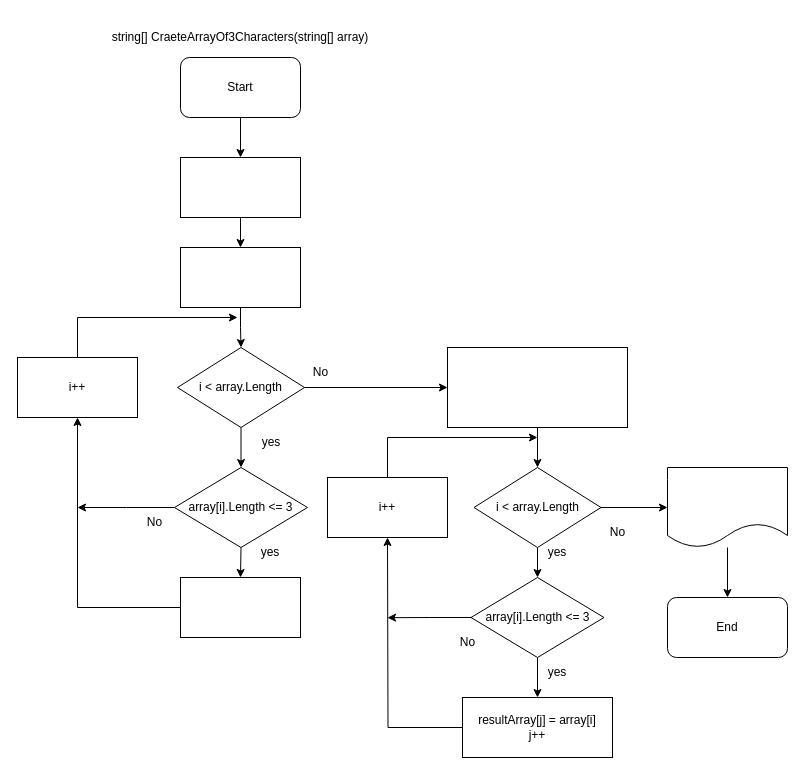
Some shapes in this 805 by 775 pixel diagram are drawn without their labels. Each missing label, with the box of its shape:
i = 0: (180, 246, 300, 308)
resultArray: (666, 466, 788, 548)
resultArray[sizeResultArray] i = 0 j = 0: (446, 346, 628, 428)
sizeResultArray = 0: (180, 156, 300, 218)
sizeResultArray++: (180, 576, 300, 638)
